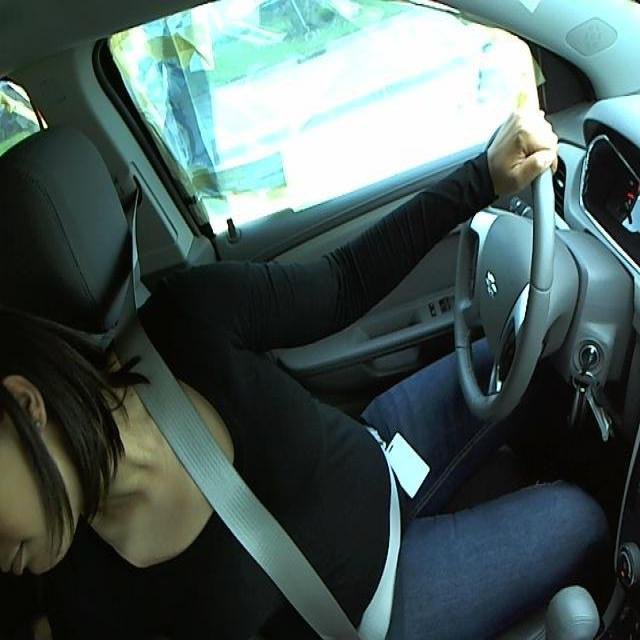seatbelt: (141, 385, 328, 600)
